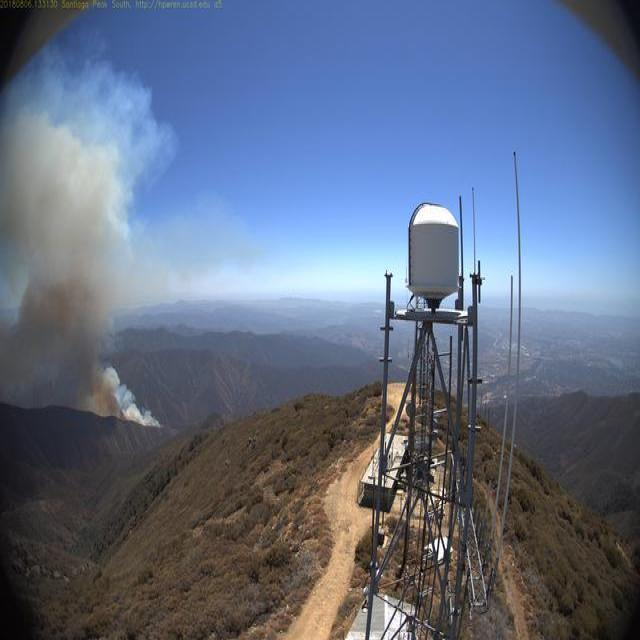smoke: (2, 56, 161, 433)
